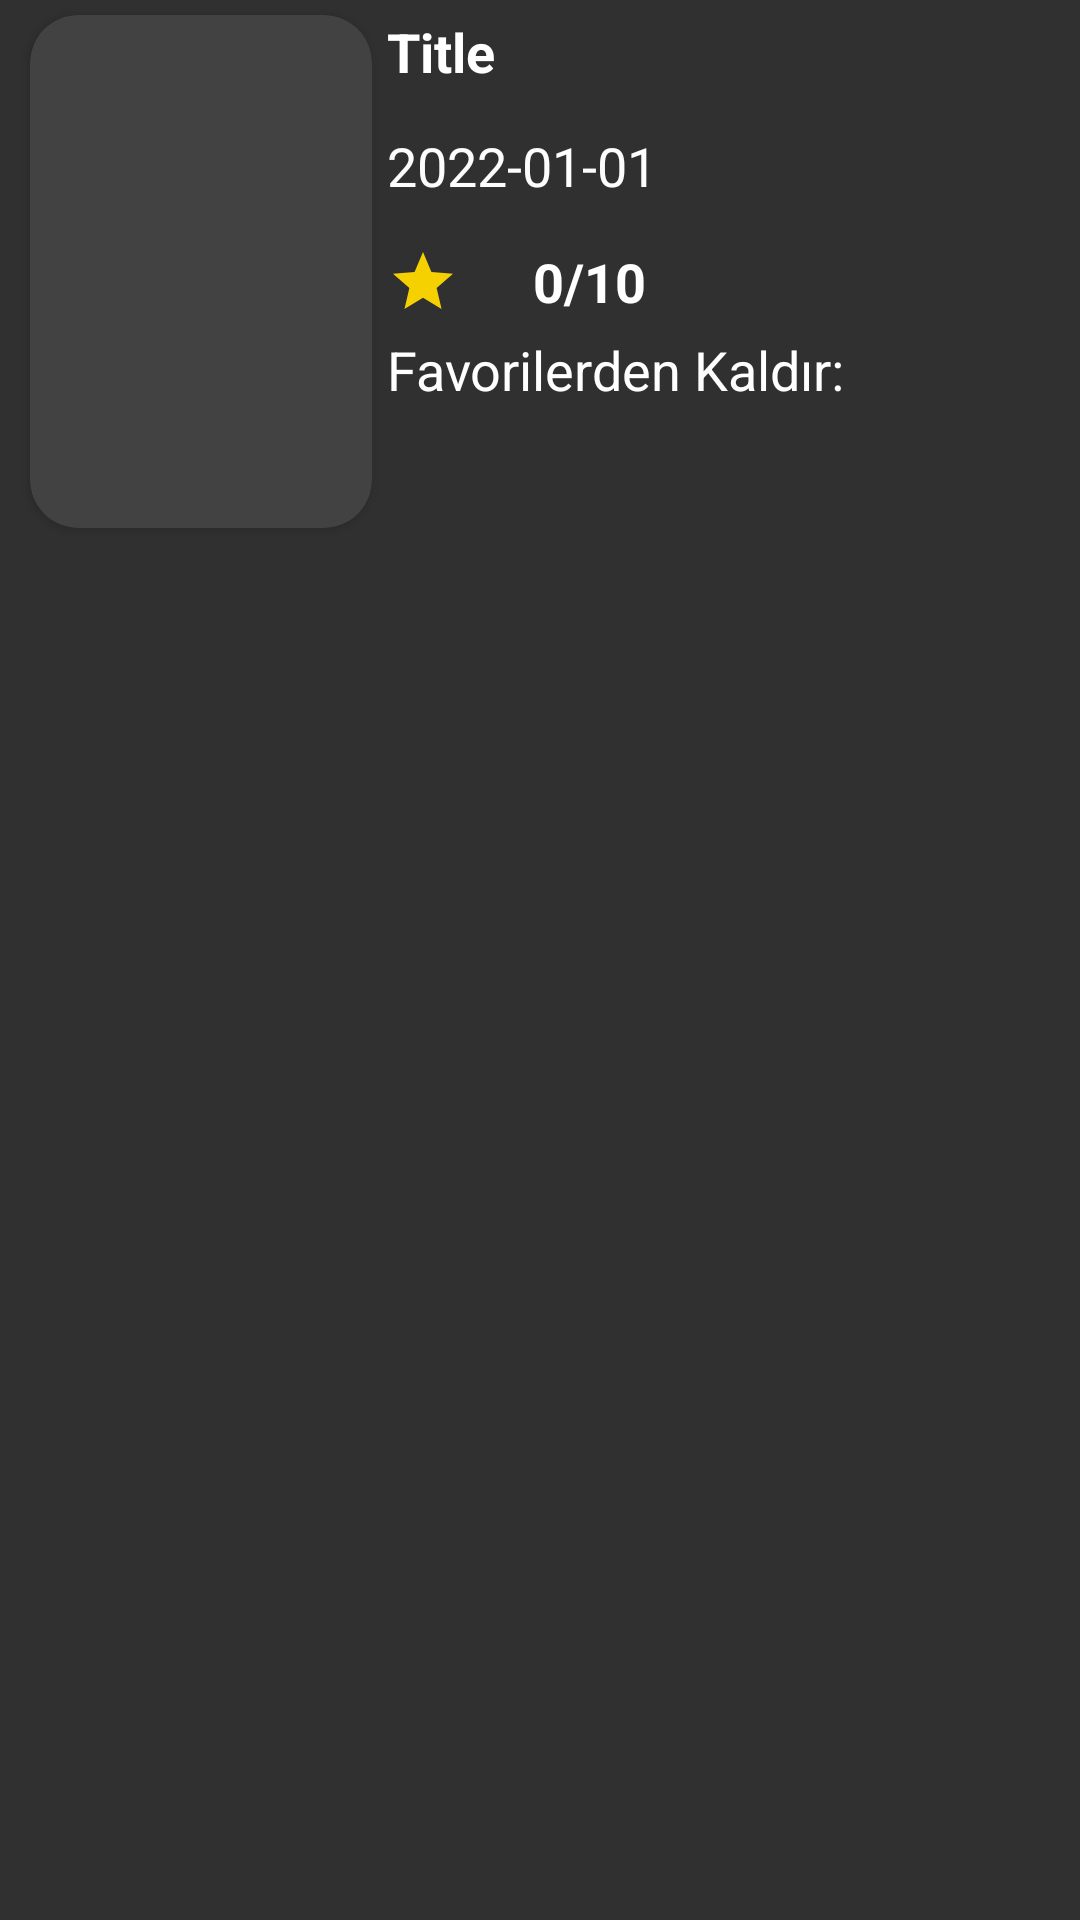

Screen size 1080px x 1920px. Icon name, then its center in pixels as (x=x, y=y):
star: (x=423, y=280)
